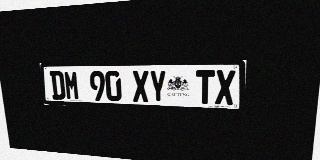0: (105, 71, 122, 101)
9: (89, 71, 106, 101)
D: (49, 71, 66, 100)
M: (64, 71, 80, 100)
T: (196, 70, 215, 104)
X: (215, 70, 235, 105), (132, 70, 149, 102)
Y: (149, 70, 167, 103)
